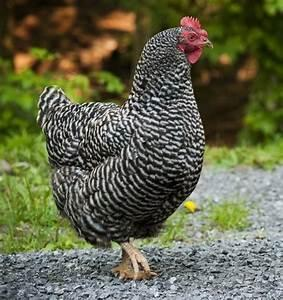hen: (35, 14, 213, 281)
